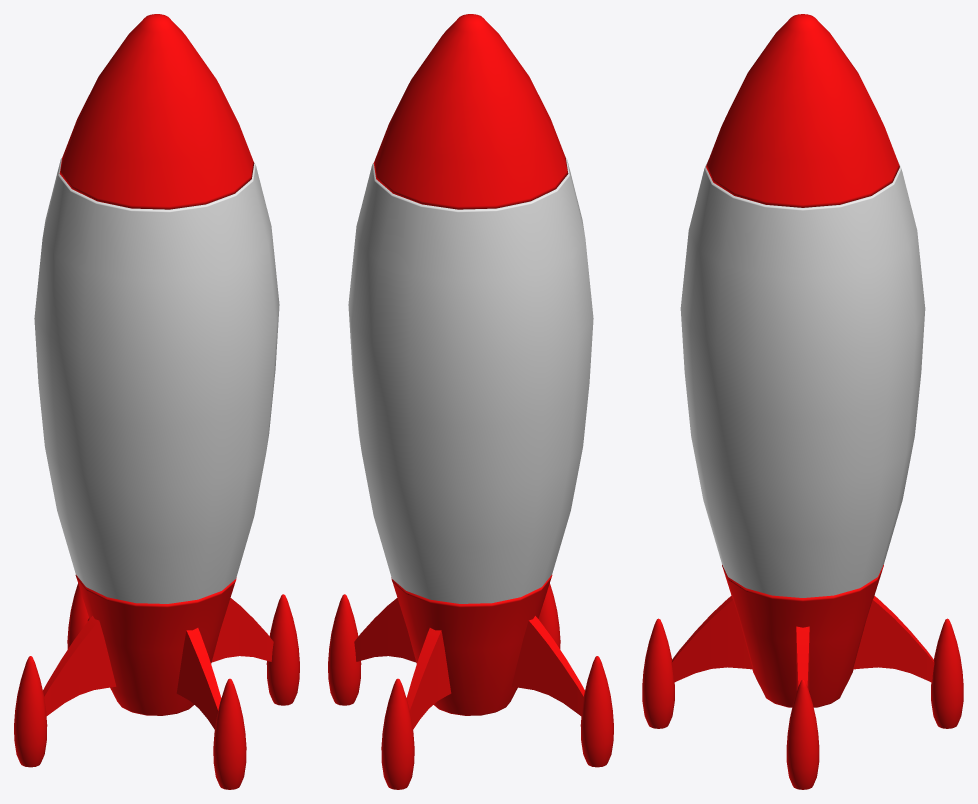
The model's file is ToyRocketRed.fbx.
3 renders of one model, left to right at view 1: azimuth 30°, elevation 25°; view 2: azimuth 150°, elevation 25°; view 3: azimuth 270°, elevation 25°, orthographic.
Parts seen in each view (by area): view 1: Rocket, RocketCaps; view 2: Rocket, RocketCaps; view 3: Rocket, RocketCaps.
Boxes of the visible parts, box(x1,y1,x2,y2) form: Rocket: box(34, 158, 279, 603); RocketCaps: box(14, 14, 299, 789); Rocket: box(348, 158, 593, 603); RocketCaps: box(328, 14, 613, 789); Rocket: box(680, 159, 925, 597); RocketCaps: box(642, 14, 963, 789).
Bounding box in the file's own units: 3.11 × 7.56 × 3.11.
